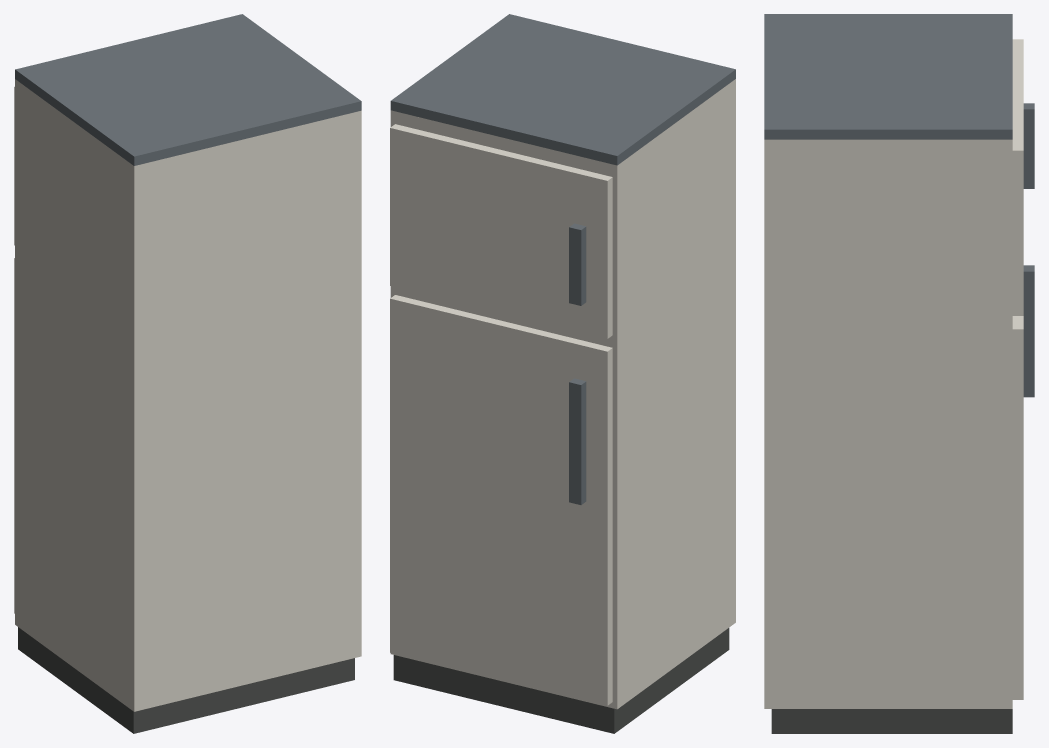
The model's file is int_fridge.glb.
3 renders of one model, left to right at view 1: azimuth 30°, elevation 25°; view 2: azimuth 150°, elevation 25°; view 3: azimuth 270°, elevation 25°, orthographic. The views are drawn at different scales.
Parts seen in each view (by area): view 1: int_fridge; view 2: int_fridge; view 3: int_fridge.
Boxes of the visible parts, x1=… form: int_fridge: x1=14, y1=14, x2=361, y2=733; int_fridge: x1=390, y1=14, x2=735, y2=733; int_fridge: x1=764, y1=14, x2=1034, y2=733.
Size of the model in its own units: 0.75 by 1.83 by 0.74.
Materials: 1 (1 with a texture image).
